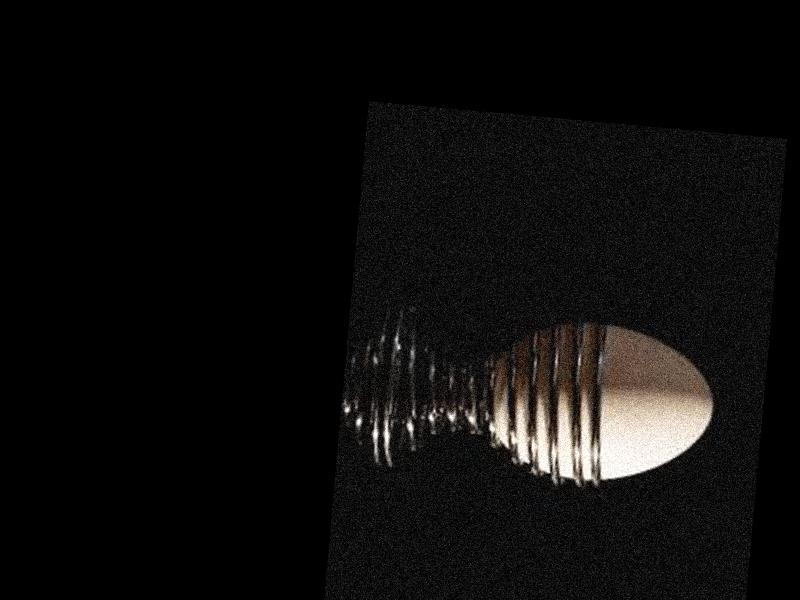Eggs: (484, 315, 720, 491)
